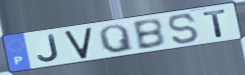B: (130, 17, 168, 51)
J: (36, 33, 61, 63)
Q: (98, 23, 137, 54)
S: (166, 13, 201, 46)
T: (202, 7, 229, 38)
V: (63, 25, 94, 60)
